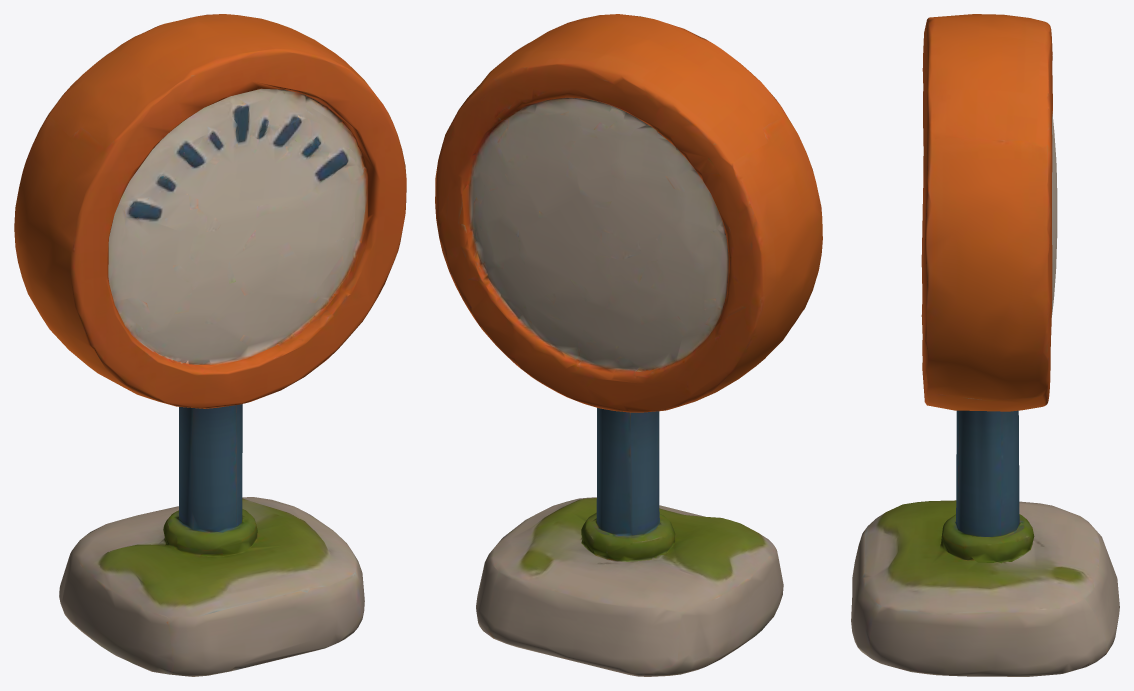
File: roche-dial.glb
3 renders of one model, left to right at view 1: azimuth 30°, elevation 25°; view 2: azimuth 150°, elevation 25°; view 3: azimuth 270°, elevation 25°, orthographic.
Parts seen in each view (by area): view 1: textured_mesh.obj; view 2: textured_mesh.obj; view 3: textured_mesh.obj.
Part boxes in pixels (x1=…): textured_mesh.obj: x1=14, y1=14, x2=406, y2=676; textured_mesh.obj: x1=435, y1=14, x2=822, y2=676; textured_mesh.obj: x1=851, y1=14, x2=1119, y2=676.
Bounding box in the file's own units: 0.6213 × 0.9986 × 0.4134.
1 material, 1 textured.
